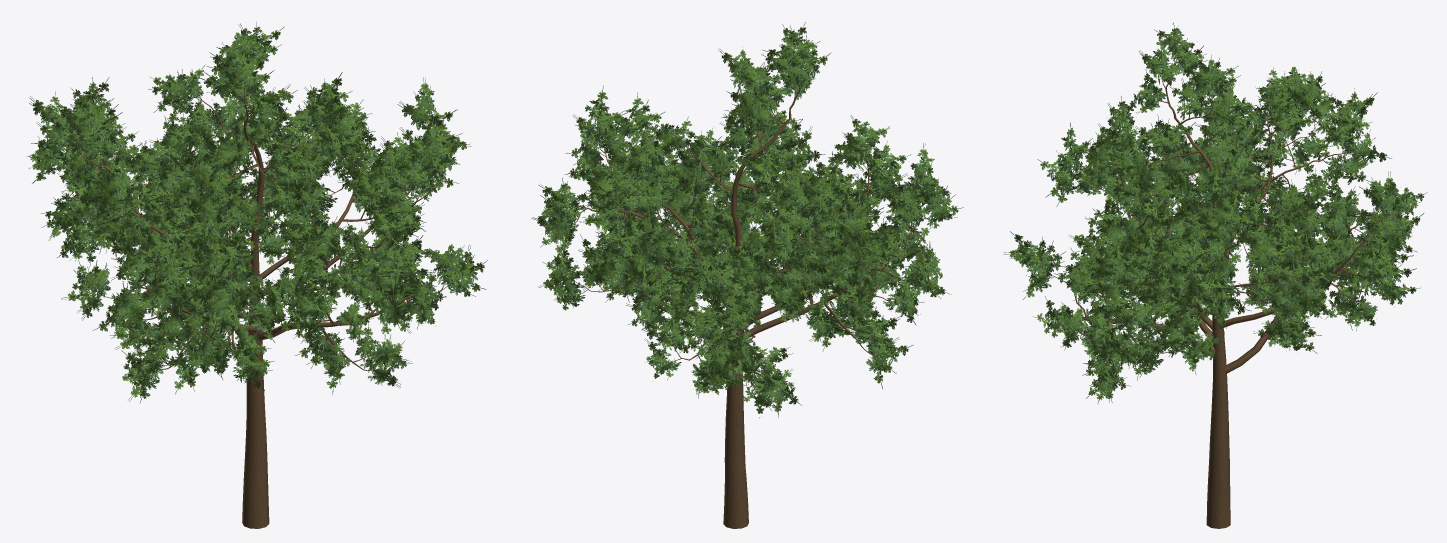
The model's file is canopy-v3.glb.
3 views of the same model, side by side, from view 1: azimuth 30°, elevation 25°; view 2: azimuth 150°, elevation 25°; view 3: azimuth 270°, elevation 25° (orthographic). The views are drawn at different scales.
Visible parts, largest first — view 1: leaves, branches; view 2: leaves, branches; view 3: leaves, branches.
Boxes of the visible parts, x1,y1,x2,y2 form: leaves: [27, 22, 487, 403]; branches: [51, 49, 462, 528]; leaves: [531, 22, 963, 417]; branches: [556, 46, 937, 528]; leaves: [1003, 22, 1427, 403]; branches: [1039, 44, 1399, 528].
Bounding box in the file's own units: 5.37 × 6.6 × 5.34.
Materials: 2 (2 with a texture image).
